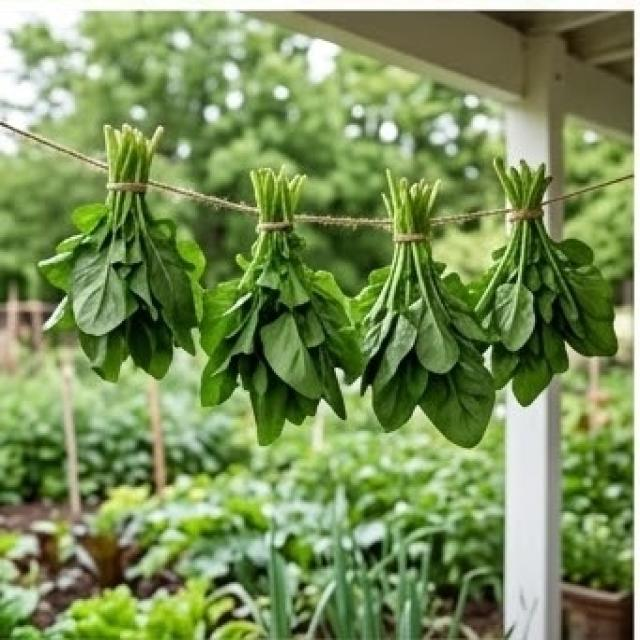spinach: (25, 98, 218, 450), (322, 120, 505, 458), (189, 148, 377, 471), (455, 111, 640, 413)
